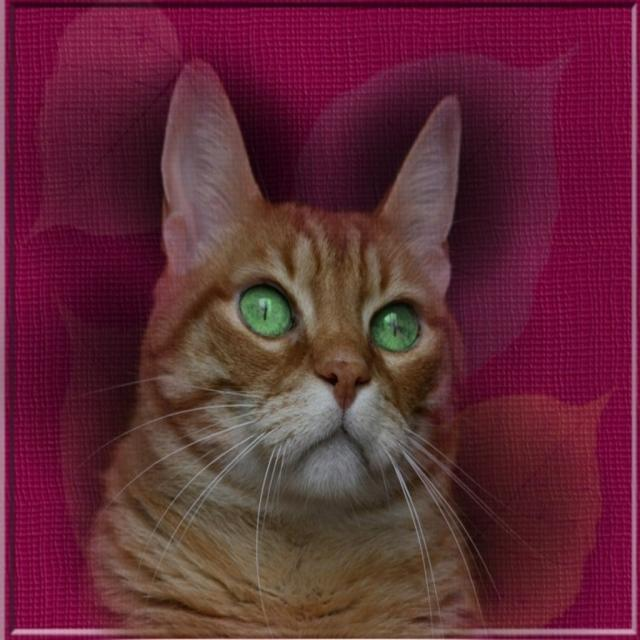Cat: (68, 59, 560, 638)
